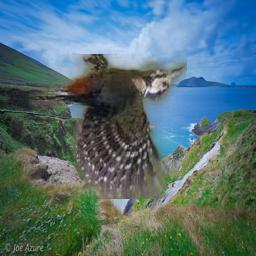Woodpecker: (29, 55, 187, 200)
